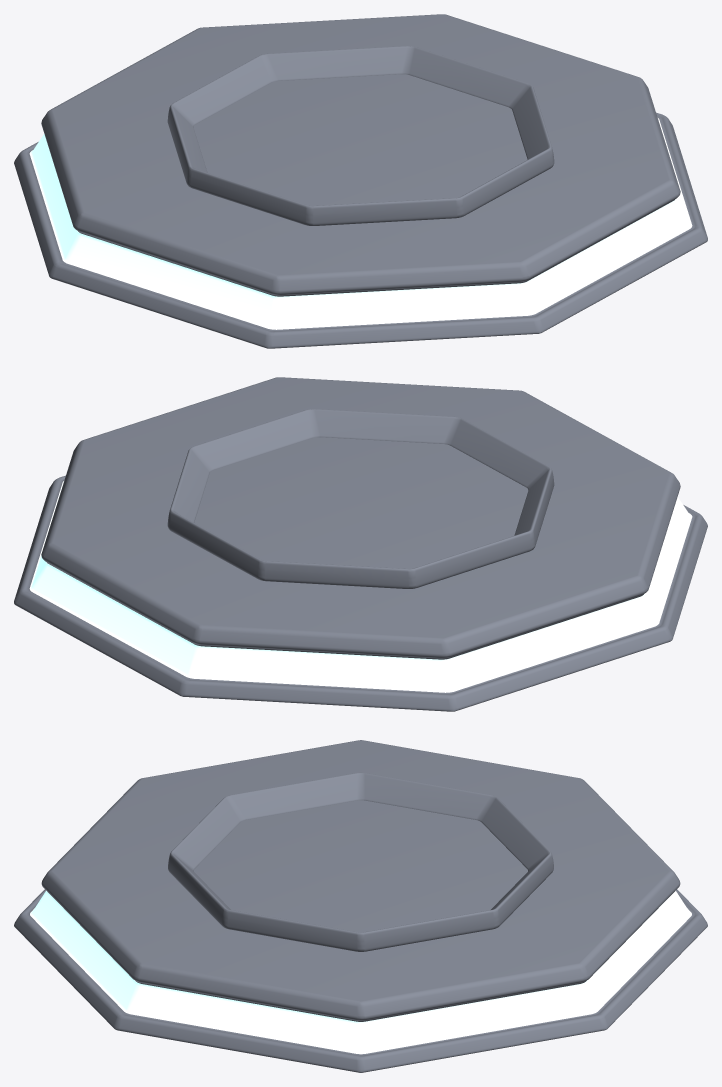
The model's file is pedestal_crystal_base.fbx.
The picture shows the model from 3 angles, top to bottom: view 1: azimuth 30°, elevation 25°; view 2: azimuth 150°, elevation 25°; view 3: azimuth 270°, elevation 25°; orthographic projection. The views are drawn at different scales.
Visible parts, largest first — view 1: pedestal_crystal_base; view 2: pedestal_crystal_base; view 3: pedestal_crystal_base.
Boxes of the visible parts, x1,y1,x2,y2 form: pedestal_crystal_base: (14, 14, 707, 348); pedestal_crystal_base: (14, 377, 707, 711); pedestal_crystal_base: (14, 740, 707, 1072).
Size of the model in its own units: 562 by 66.25 by 562.
